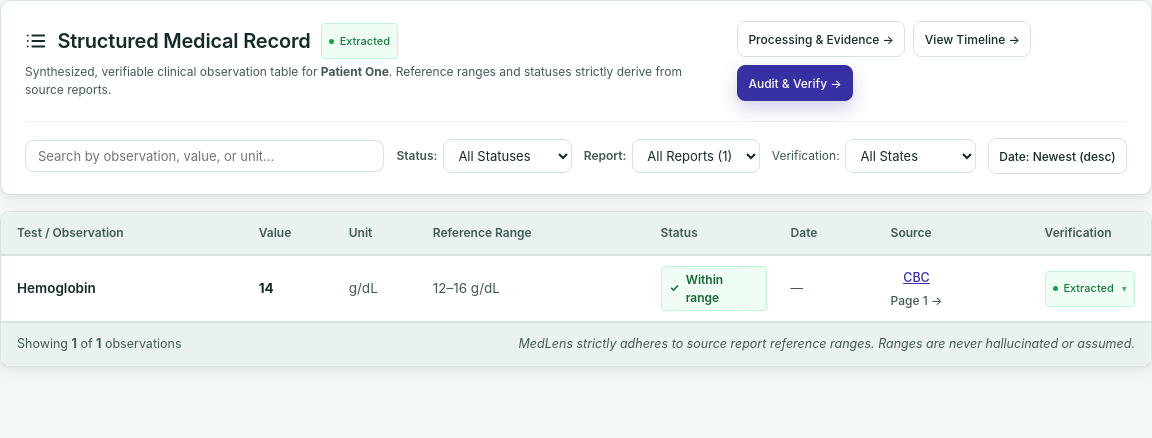
Test: Workflow Empty & Loading States › renders "no matches" placeholder when search filters out all observations
Type "nonexistent-query-xyz" into the field named "Search observations" at (205, 156), box [25,140,384,172]
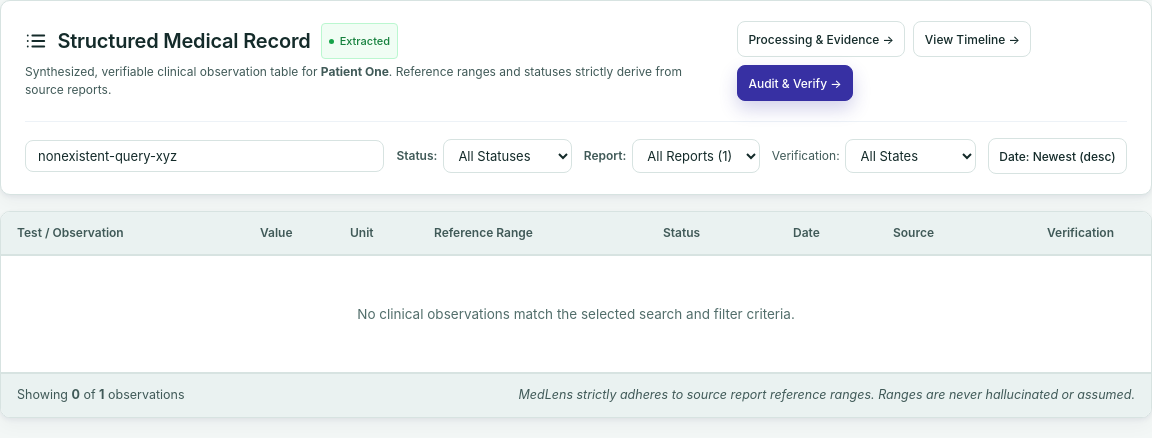
Check: the text "No clinical observations match the selected search and filter criteria" is shown, box [357,306,795,322]
